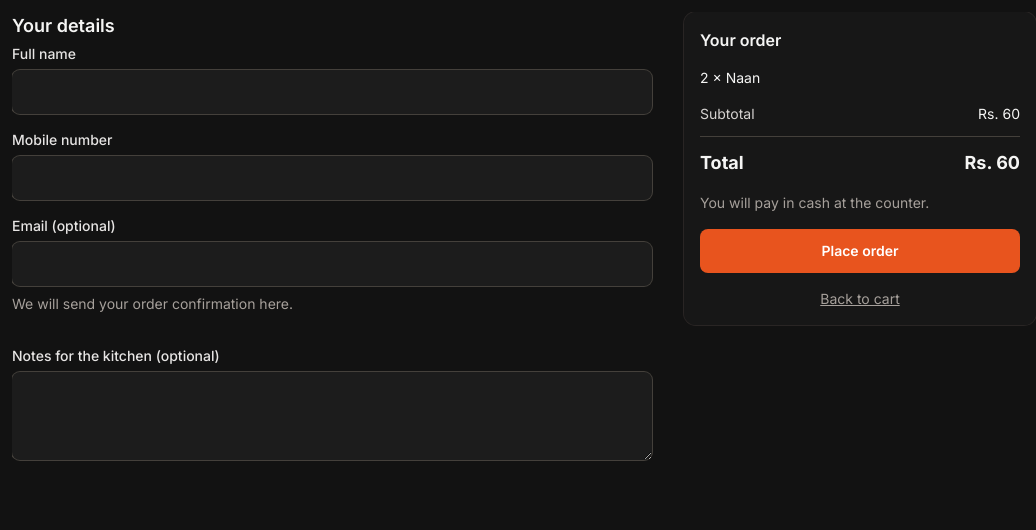
it: checking the form › shows what is missing and sends nothing
Click the button "Place order" at (860, 251), box [700,229,1020,273]
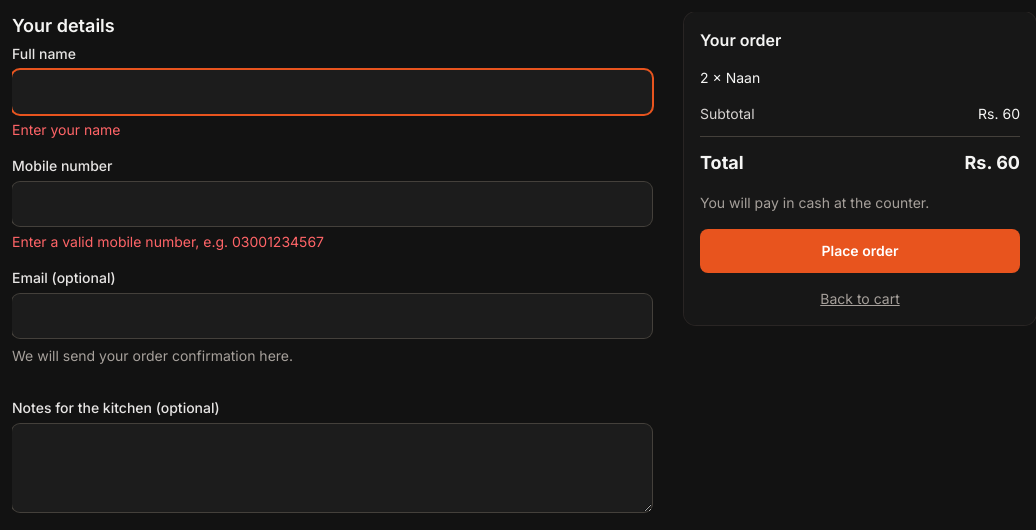
Expected: the text "Enter your name" is shown, [12,121,120,138]
Expected: the text "Enter a valid mobile number, e.g. 03001234567" is shown, [12,233,324,250]
